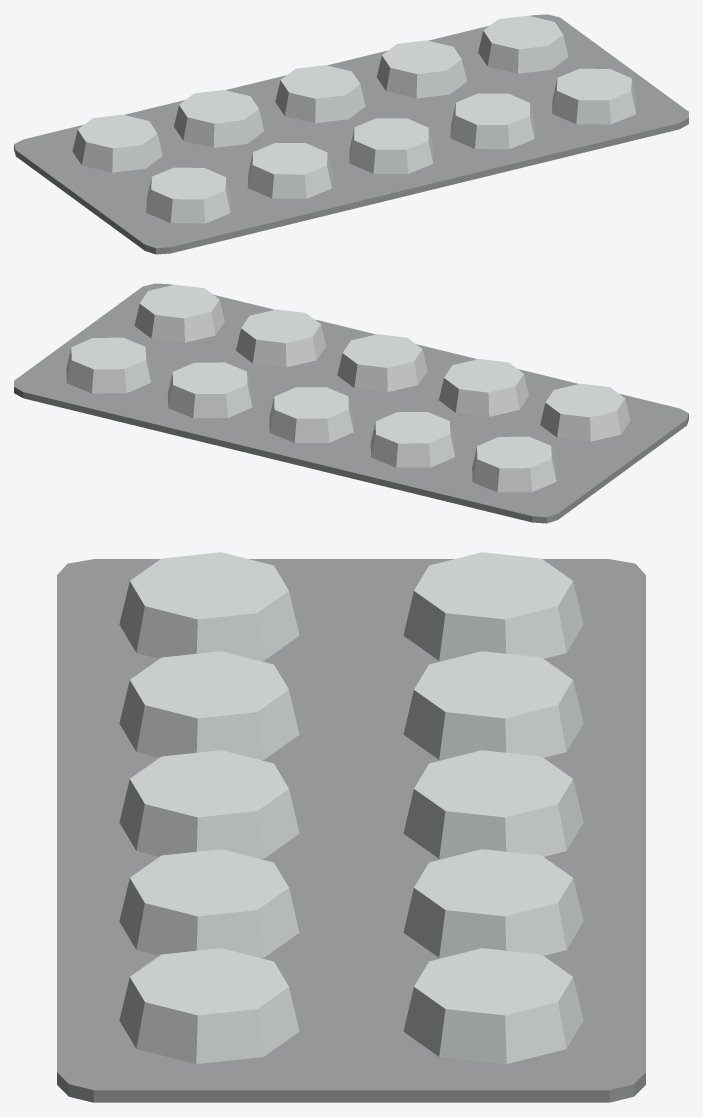
Rendered from PillBlister.fbx.
3 views of the same model, one above another, from view 1: azimuth 30°, elevation 25°; view 2: azimuth 150°, elevation 25°; view 3: azimuth 270°, elevation 25° (orthographic). The views are drawn at different scales.
Visible parts, largest first — view 1: Cube; view 2: Cube; view 3: Cube.
Part boxes in pixels (left/top/right/bottom): Cube: left=14, top=14, right=688, bottom=254; Cube: left=14, top=283, right=688, bottom=523; Cube: left=57, top=552, right=645, bottom=1102.
Size of the model in its own units: 429 by 21.41 by 201.
